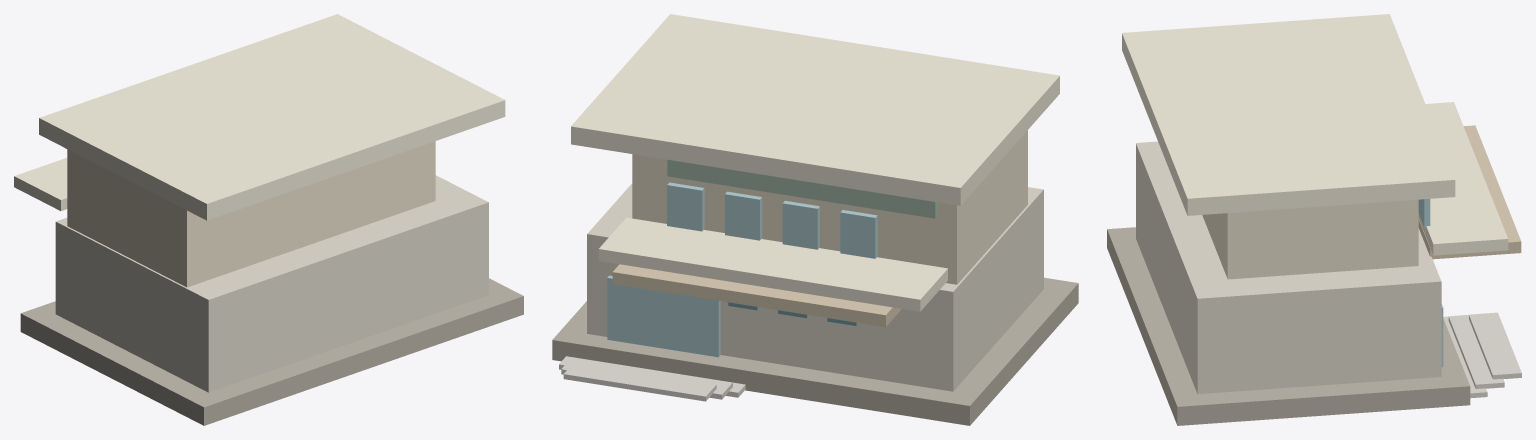
The model's file is saerom-overview.glb.
3 views of the same model, side by side, from view 1: azimuth 30°, elevation 25°; view 2: azimuth 150°, elevation 25°; view 3: azimuth 270°, elevation 25° (orthographic). The views are drawn at different scales.
Bounding box in the file's own units: 17.69 × 9.16 × 15.63.
